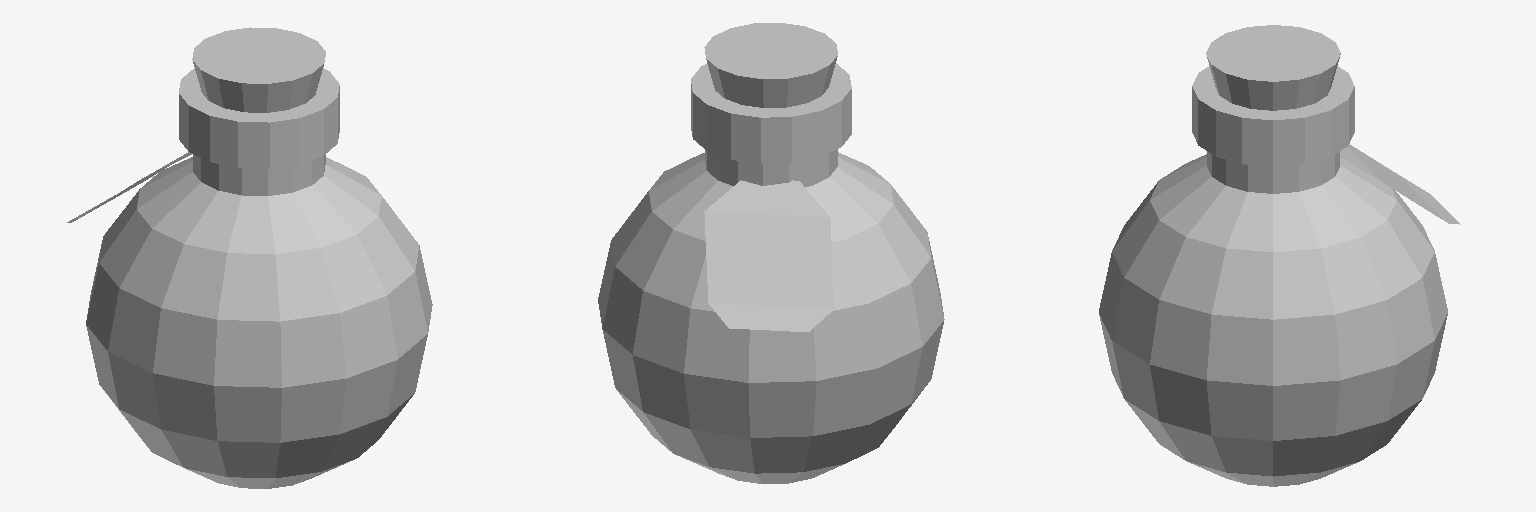
Rendered from elixir.obj.
3 views of the same model, side by side, from view 1: azimuth 30°, elevation 25°; view 2: azimuth 150°, elevation 25°; view 3: azimuth 270°, elevation 25° (orthographic).
Parts seen in each view (by area): view 1: Plane; view 2: Plane; view 3: Plane.
Boxes of the visible parts, box(x1,y1,x2,y2) form: Plane: box(67, 27, 432, 488); Plane: box(598, 23, 944, 483); Plane: box(1099, 25, 1460, 486).
Size of the model in its own units: 0.5502 by 0.7034 by 0.5708.